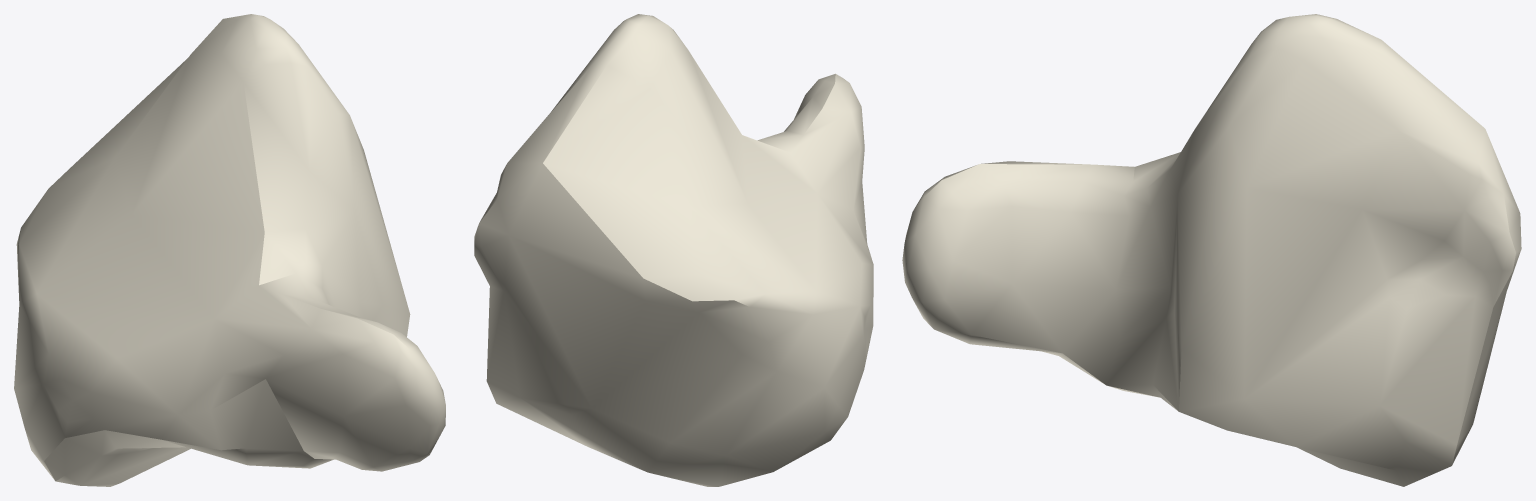
The model's file is fma24449_fj3261.glb.
3 renders of one model, left to right at view 1: azimuth 30°, elevation 25°; view 2: azimuth 150°, elevation 25°; view 3: azimuth 270°, elevation 25°, orthographic. The views are drawn at different scales.
Visible parts, largest first — view 1: FMA24449_FJ3261; view 2: FMA24449_FJ3261; view 3: FMA24449_FJ3261.
Boxes of the visible parts, x1=… form: FMA24449_FJ3261: x1=14, y1=14, x2=445, y2=486; FMA24449_FJ3261: x1=474, y1=14, x2=873, y2=486; FMA24449_FJ3261: x1=902, y1=14, x2=1521, y2=486.
Size of the model in its own units: 0.015 by 0.0194 by 0.0227.
